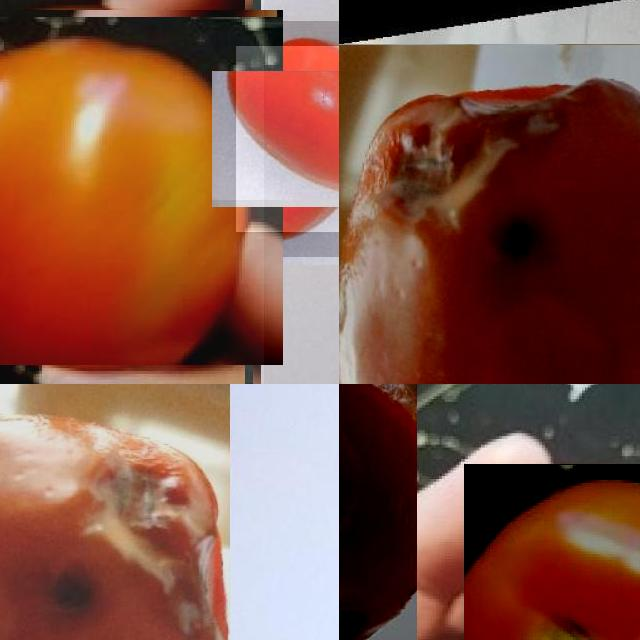Fresh Tomato: (0, 0, 264, 384), (464, 464, 640, 640), (236, 46, 339, 232)
Rotten Tomato: (339, 44, 640, 384), (0, 384, 230, 640), (339, 384, 417, 640)
